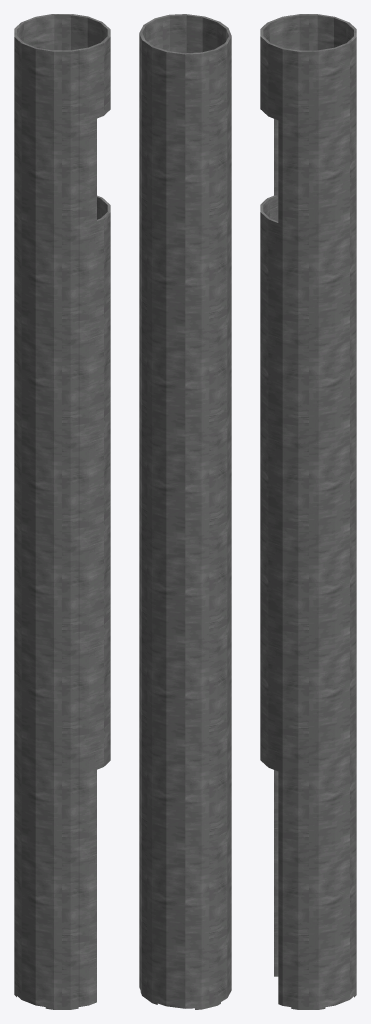
Rendered from Shaft.glb.
3 views of the same model, side by side, from view 1: azimuth 90°, elevation 25°; view 2: azimuth 210°, elevation 25°; view 3: azimuth 270°, elevation 25° (orthographic).
Visible parts, largest first — view 1: Shaft; view 2: Shaft; view 3: Shaft.
Part boxes in pixels (x1,y1,x2,y2): Shaft: (14,14,110,1009); Shaft: (139,14,231,1009); Shaft: (260,14,356,1009).
Bounding box in the file's own units: 100 × 1184 × 108.
1 material, 1 textured.
